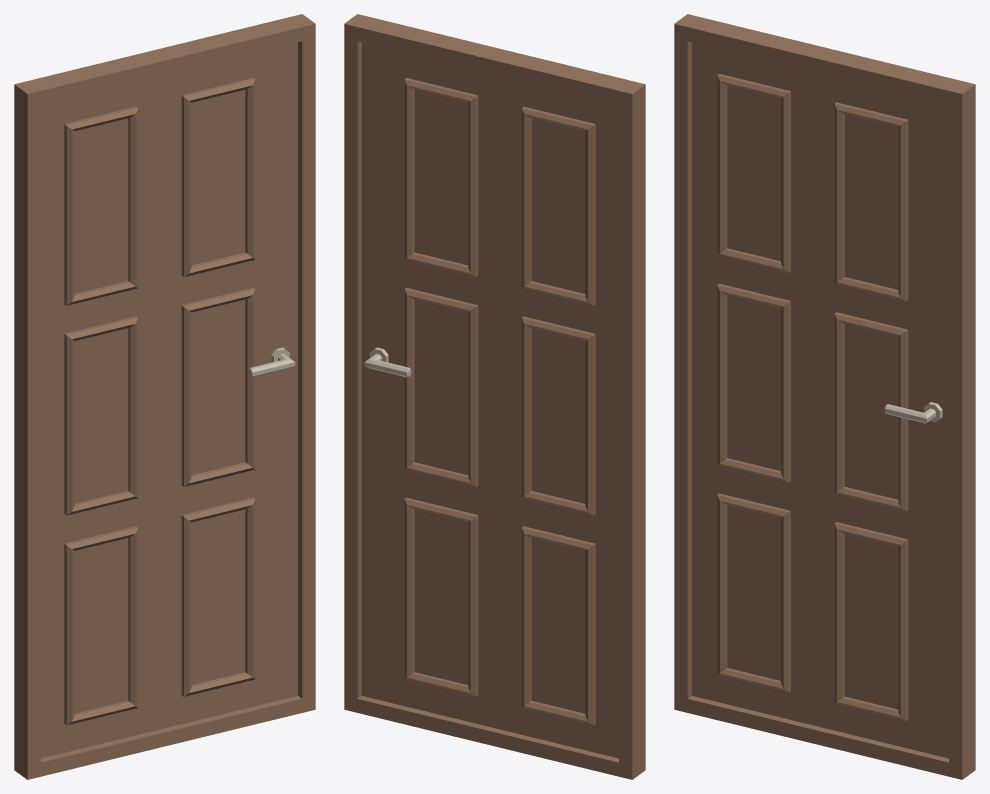
File: Mesh_Door_B05.fbx
3 views of the same model, side by side, from view 1: azimuth 30°, elevation 25°; view 2: azimuth 150°, elevation 25°; view 3: azimuth 330°, elevation 25° (orthographic).
Visible parts, largest first — view 1: Mesh_Door_B05; view 2: Mesh_Door_B05; view 3: Mesh_Door_B05.
Boxes of the visible parts, bbox=[...] form: Mesh_Door_B05: bbox=[14, 14, 315, 779]; Mesh_Door_B05: bbox=[344, 14, 645, 779]; Mesh_Door_B05: bbox=[674, 14, 975, 779].
Size of the model in its own units: 0.9 by 2.05 by 0.1524.
